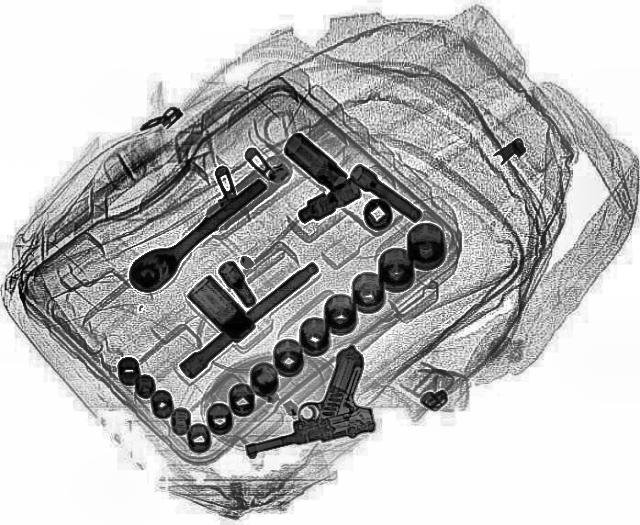Gun: (214, 342, 390, 458)
